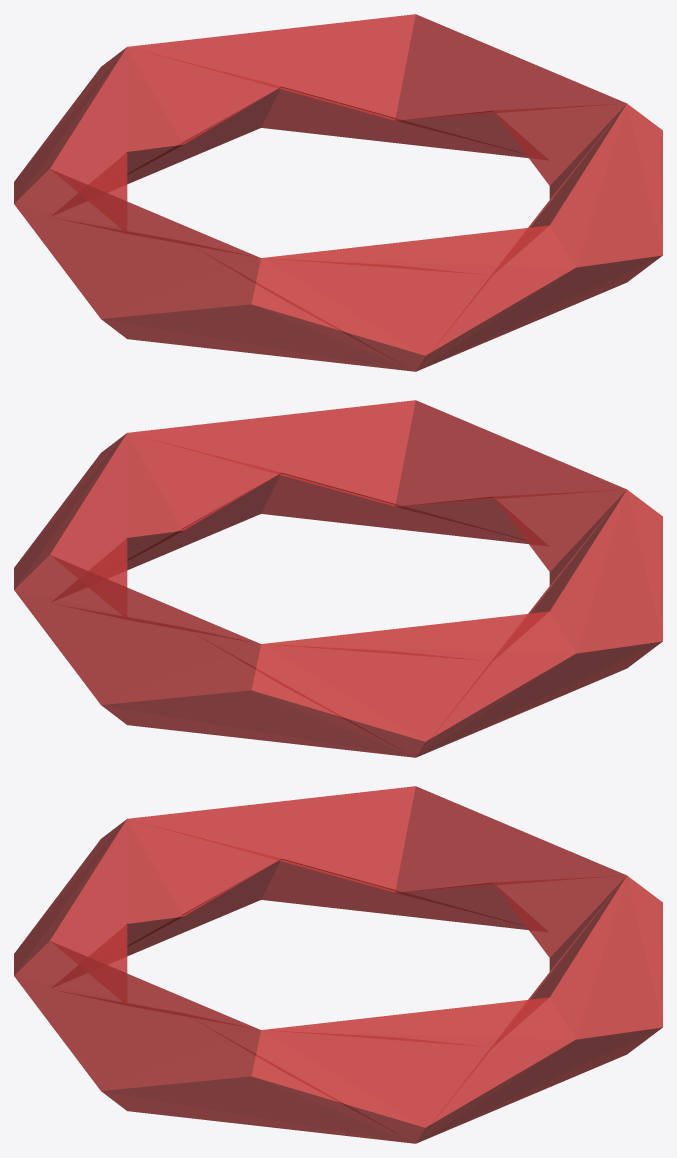
Rendered from fractalhexagonaltrapezohedrontoroid0.glb.
3 renders of one model, top to bottom at view 1: azimuth 30°, elevation 25°; view 2: azimuth 150°, elevation 25°; view 3: azimuth 270°, elevation 25°, orthographic.
Bounding box in the file's own units: 8.86 × 1.71 × 8.86.
